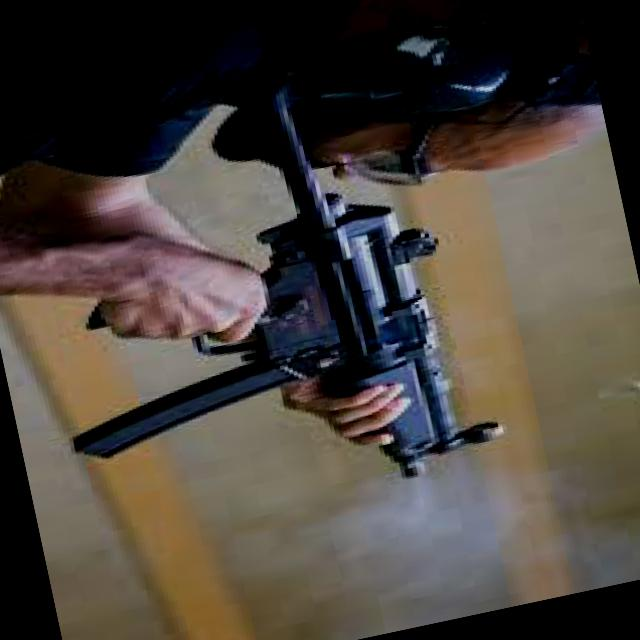long weapon: (69, 158, 551, 564)
